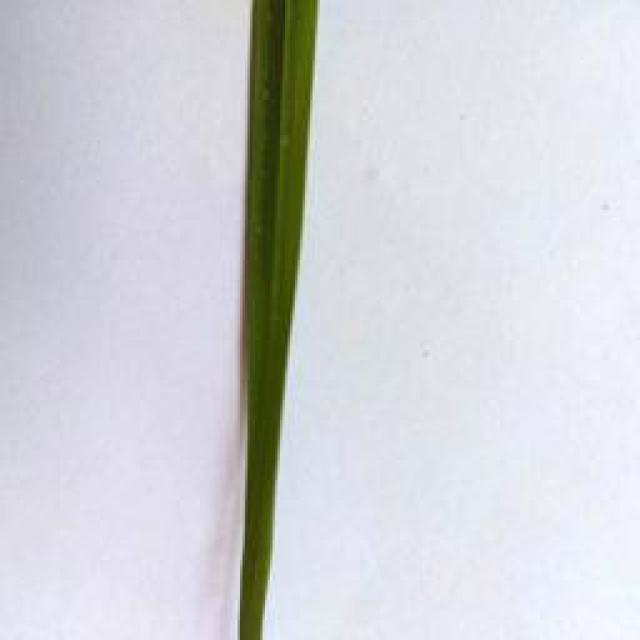Healthy-Plant: (242, 0, 317, 640)
